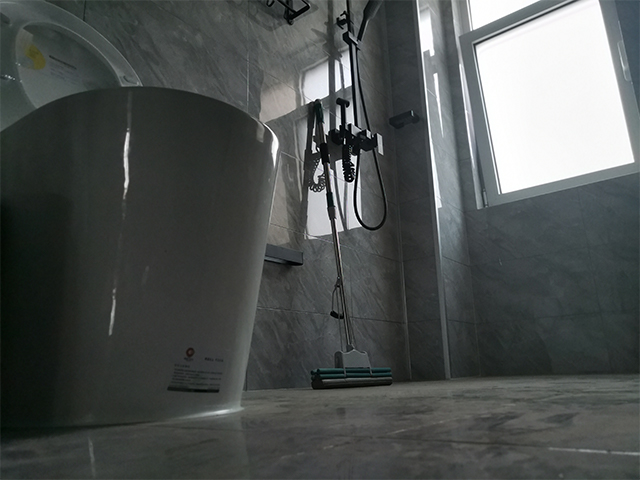closestool: (1, 1, 284, 431)
